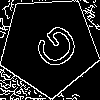G: (24, 20, 83, 80)
